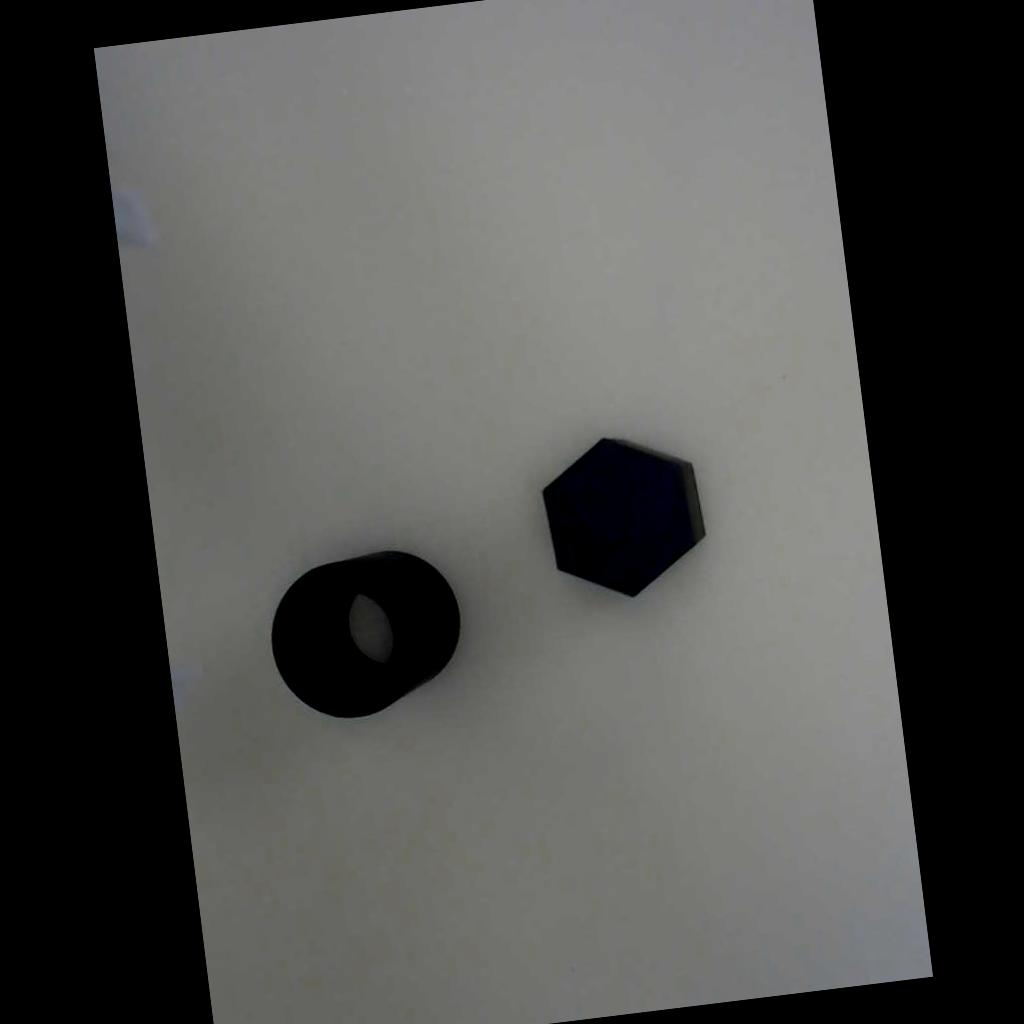hexagon: (511, 400, 729, 628)
ring: (258, 537, 473, 730)
